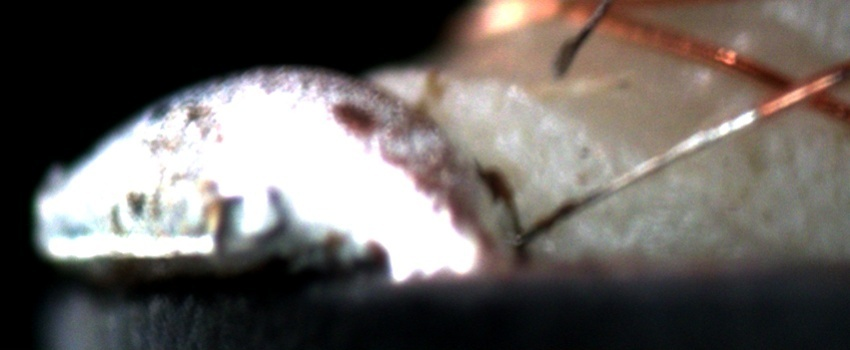CL: (754, 59, 840, 116)
TS: (516, 105, 761, 247)
TTCW: (510, 91, 797, 252)
